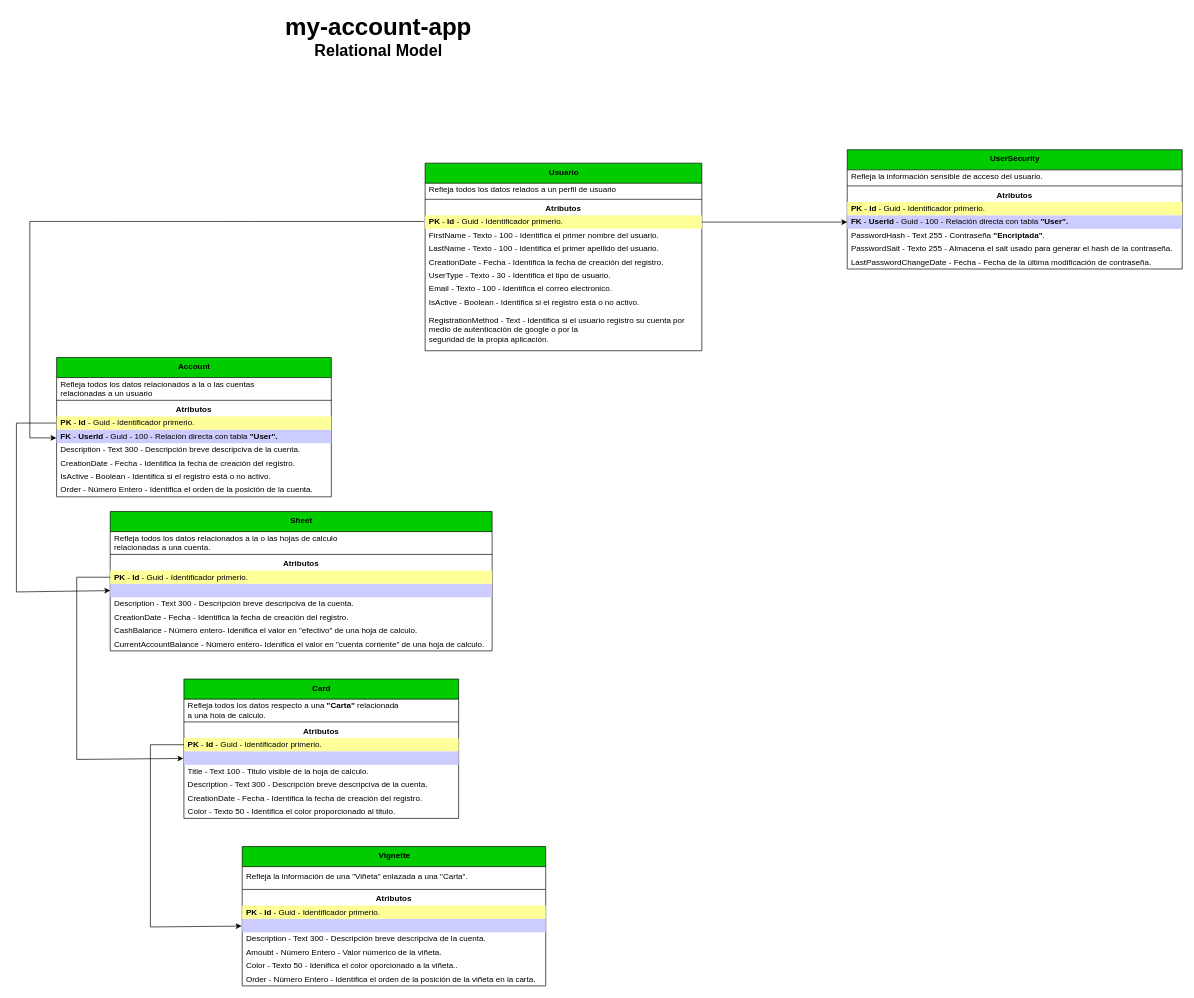
The diagram is 1194 pixels wide and 998 high, and some of its shapes have lost their labels. The centre of each missing label's shape, as x and y in pixels:
FK - AccountId - Guid - 100 - Relación directa con tabla "Account".: [301,590]
FK - CardtId - Guid - 100 - Relación directa con tabla "Card".: [393,925]
FK - SheetId - Guid - 100 - Relación directa con tabla "Sheet".: [321,757]
